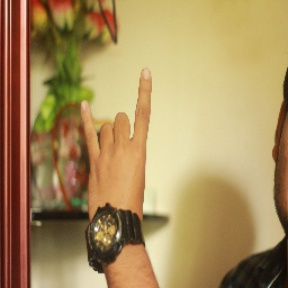V: (77, 62, 159, 226)
